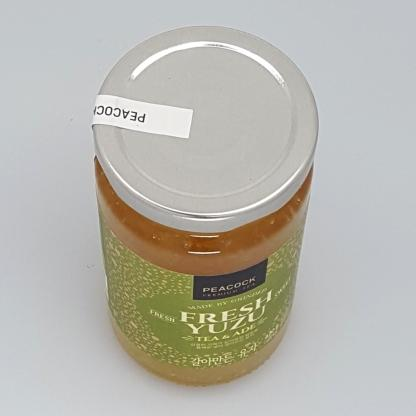------------420G: (92, 25, 319, 387)
